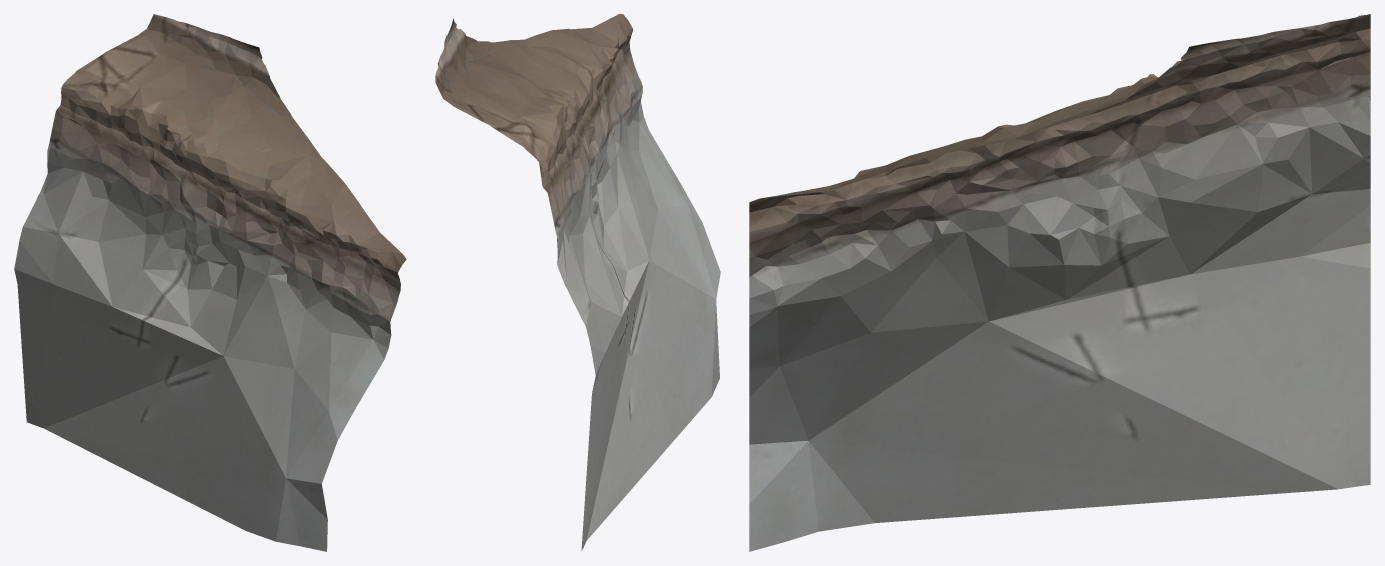
The picture shows the model from 3 angles, left to right: view 1: azimuth 30°, elevation 25°; view 2: azimuth 150°, elevation 25°; view 3: azimuth 270°, elevation 25°; orthographic projection. The views are drawn at different scales.
Size of the model in its own units: 0.8567 by 1.67 by 1.67.
Materials: 3 (3 with a texture image).
